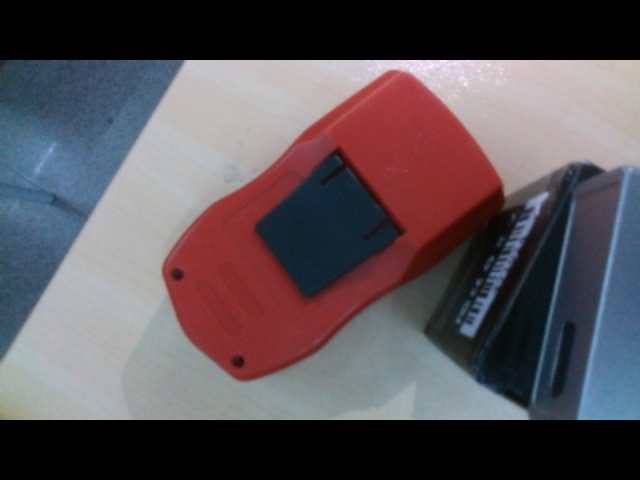Multimeter: (160, 68, 504, 382)
Screw holes: (229, 354, 247, 370), (170, 265, 185, 282)
